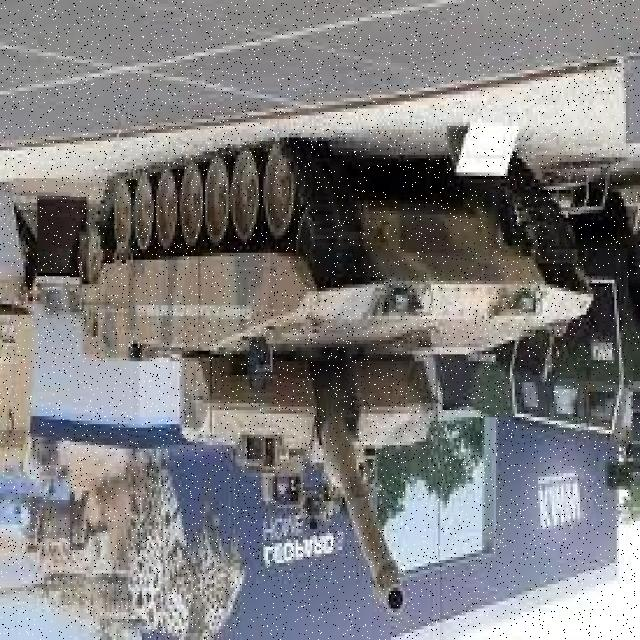MIL_MBT: (71, 134, 581, 559)
